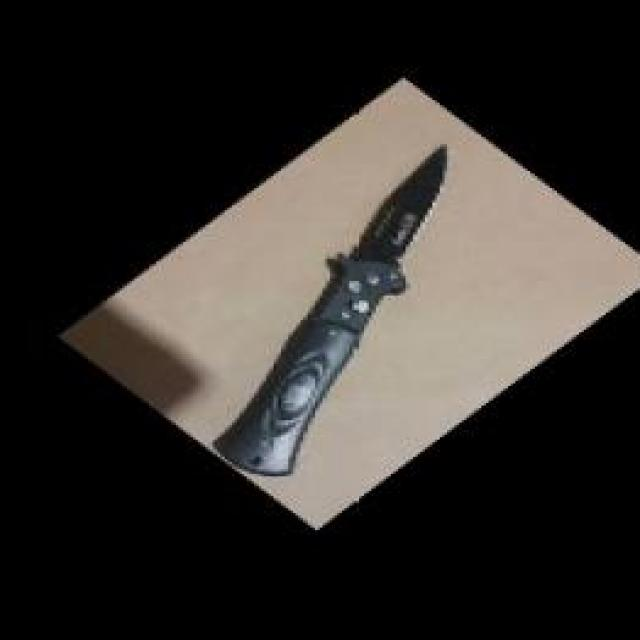knife: (215, 142, 458, 478)
